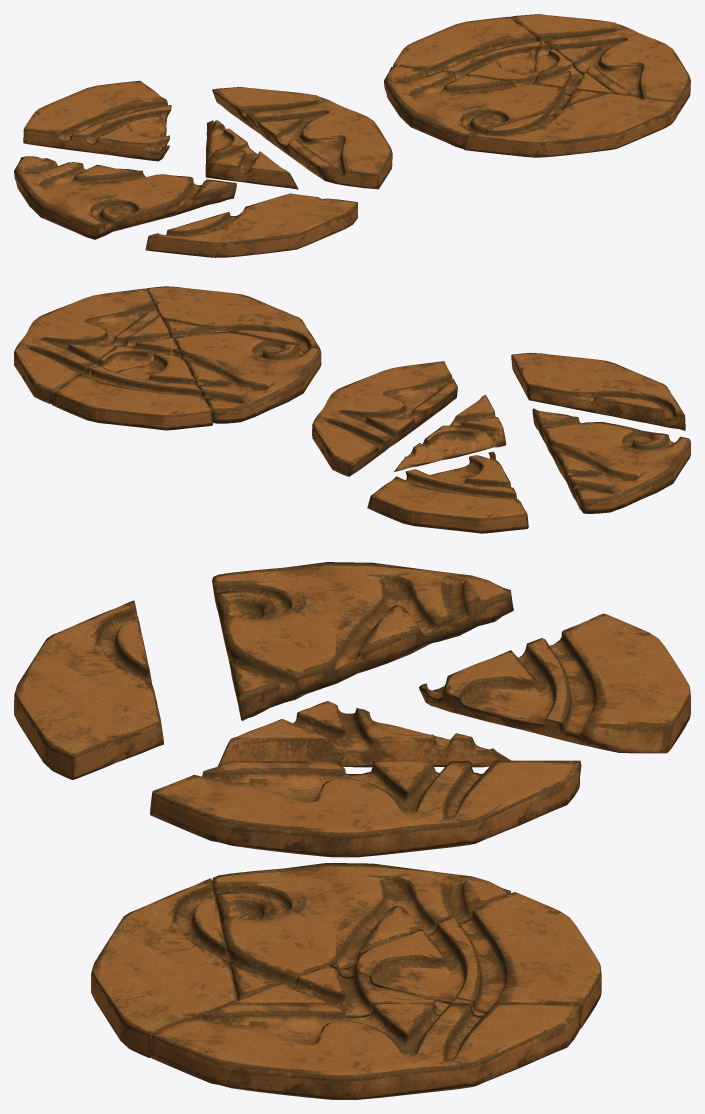
The model's file is egyptian_eye_puzzle_version_02.glb.
The picture shows the model from 3 angles, top to bottom: view 1: azimuth 30°, elevation 25°; view 2: azimuth 150°, elevation 25°; view 3: azimuth 270°, elevation 25°; orthographic projection. The views are drawn at different scales.
Visible parts, largest first — view 1: part08, part07, part02, part11, part01, part04, part09, part06, part10, part03; view 2: part08, part07, part02, part01, part11, part06, part09, part04, part10, part03; view 3: part01, part07, part08, part02, part11, part06, part09, part04, part10, part03.
Boxes of the visible parts, x1=… form: part08: x1=14, y1=156, x2=236, y2=239; part07: x1=212, y1=87, x2=392, y2=189; part02: x1=384, y1=66, x2=606, y2=149; part11: x1=23, y1=80, x2=171, y2=161; part01: x1=510, y1=14, x2=690, y2=116; part04: x1=464, y1=93, x2=676, y2=157; part09: x1=145, y1=193, x2=357, y2=257; part06: x1=393, y1=17, x2=540, y2=86; part10: x1=205, y1=120, x2=298, y2=189; part03: x1=535, y1=41, x2=615, y2=94; part08: x1=532, y1=408, x2=690, y2=513; part07: x1=312, y1=361, x2=457, y2=476; part02: x1=163, y1=318, x2=321, y2=423; part01: x1=14, y1=288, x2=159, y2=403; part11: x1=367, y1=451, x2=528, y2=533; part06: x1=52, y1=348, x2=212, y2=430; part09: x1=511, y1=352, x2=685, y2=430; part04: x1=146, y1=286, x2=320, y2=352; part10: x1=394, y1=394, x2=506, y2=471; part03: x1=85, y1=315, x2=177, y2=376; part01: x1=150, y1=1003, x2=581, y2=1099; part07: x1=150, y1=760, x2=581, y2=857; part08: x1=212, y1=562, x2=513, y2=720; part02: x1=212, y1=863, x2=510, y2=1000; part11: x1=419, y1=613, x2=690, y2=753; part06: x1=330, y1=892, x2=601, y2=1029; part09: x1=14, y1=600, x2=163, y2=779; part04: x1=91, y1=878, x2=237, y2=1057; part10: x1=218, y1=701, x2=510, y2=767; part03: x1=230, y1=965, x2=485, y2=1016.
Bounding box in the file's own units: 49.68 × 1.14 × 27.59.
5 materials, 5 textured.
